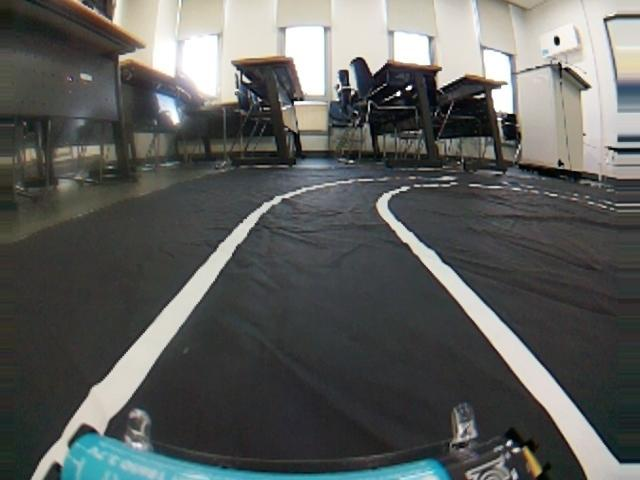straight: (34, 241, 640, 479)
